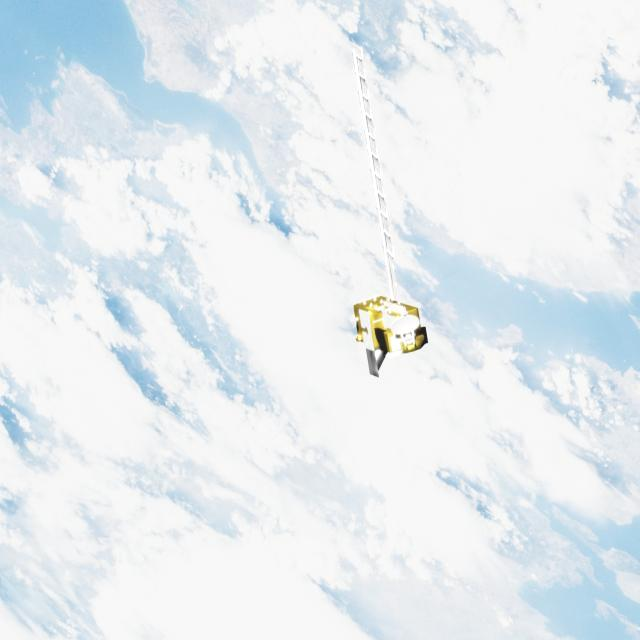satellite: (326, 37, 461, 415)
